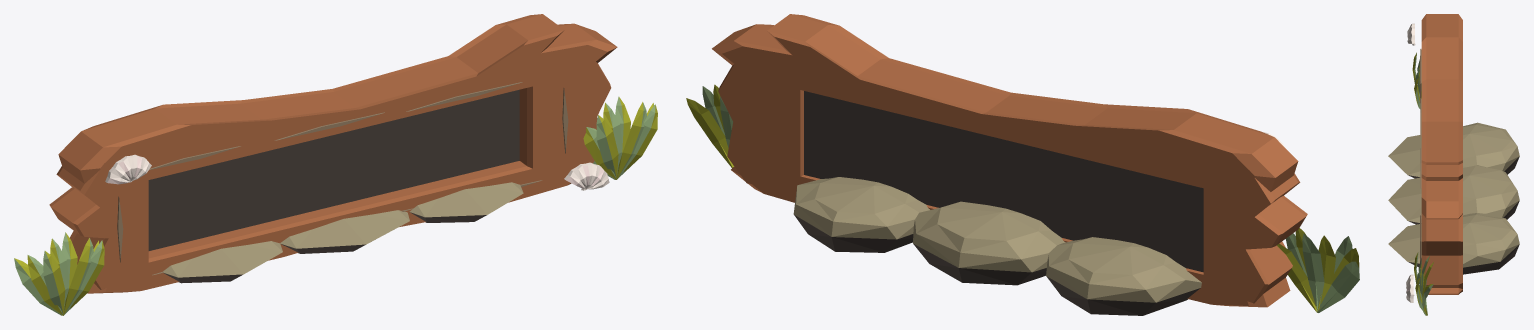
File: resetSign.glb
The picture shows the model from 3 angles, left to right: view 1: azimuth 30°, elevation 25°; view 2: azimuth 150°, elevation 25°; view 3: azimuth 270°, elevation 25°; orthographic projection. The views are drawn at different scales.
Parts seen in each view (by area): view 1: resetSign; view 2: resetSign; view 3: resetSign.
Boxes of the visible parts, x1=… form: resetSign: x1=14, y1=14, x2=657, y2=315; resetSign: x1=686, y1=14, x2=1359, y2=315; resetSign: x1=1388, y1=14, x2=1519, y2=315.
Size of the model in its own units: 4.23 by 1.05 by 1.02.
Materials: 1 (1 with a texture image).
